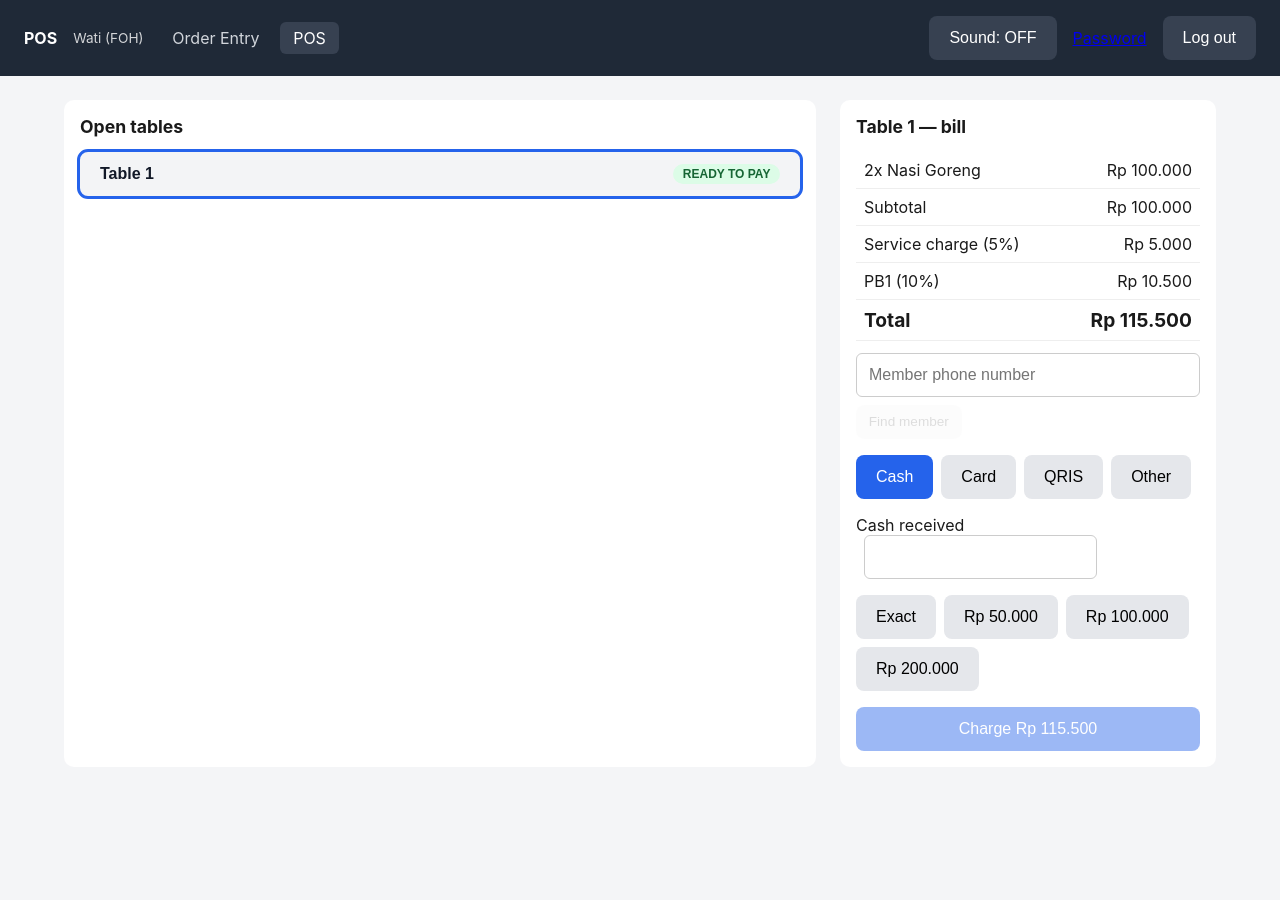
Test: POS: member discount, service charge and tax › an unknown phone shows the server's message and no discount
The width and height of the screenshot is (1280, 900).
Expected: the text "Service charge (5%)" is shown, [856,225,1060,262]
Type "0899999999" into the field labelled "Member phone number". click: (1028, 375)
box: [856,353,1200,397]
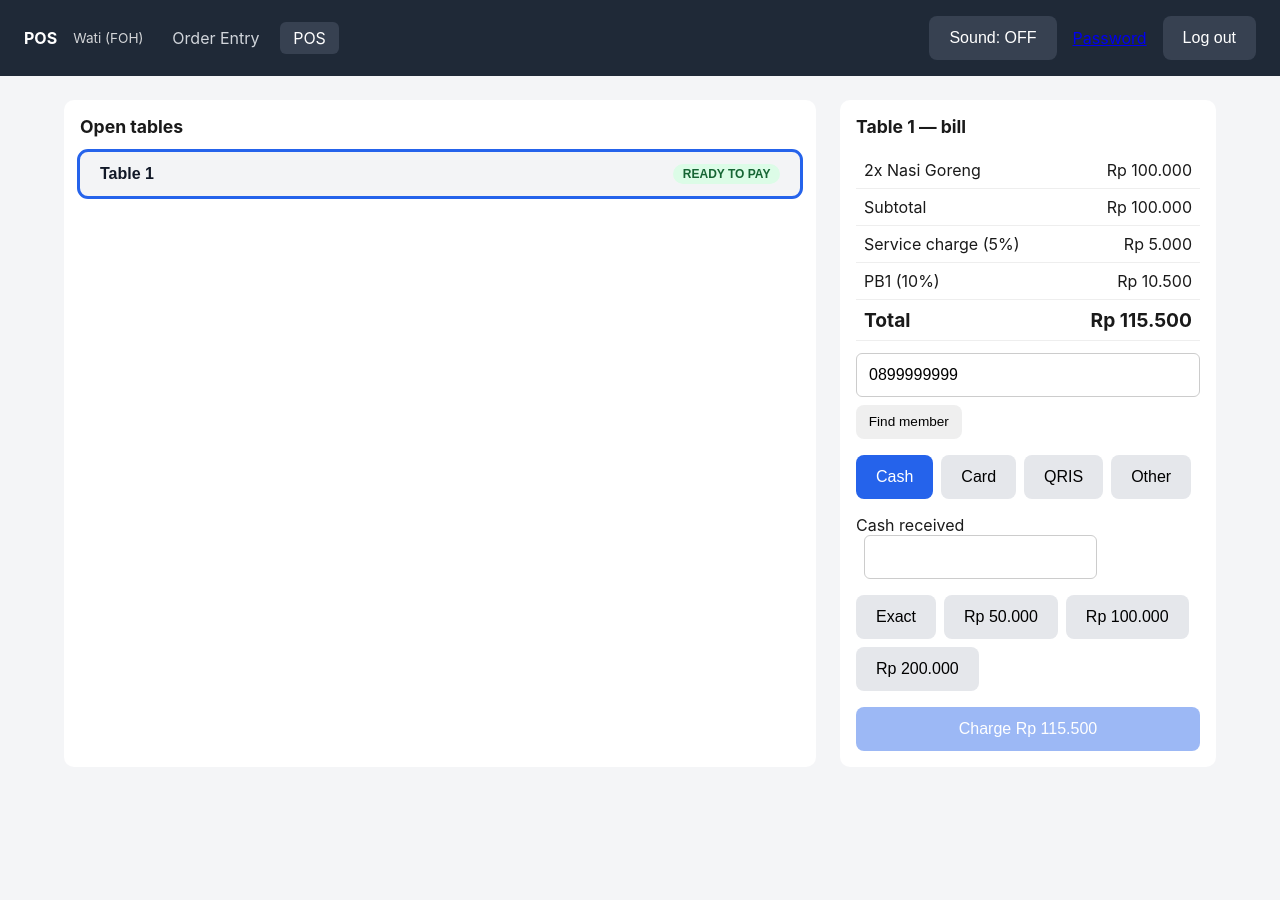
Click the button "Find member". click: (909, 422)
box: [856,405,962,439]
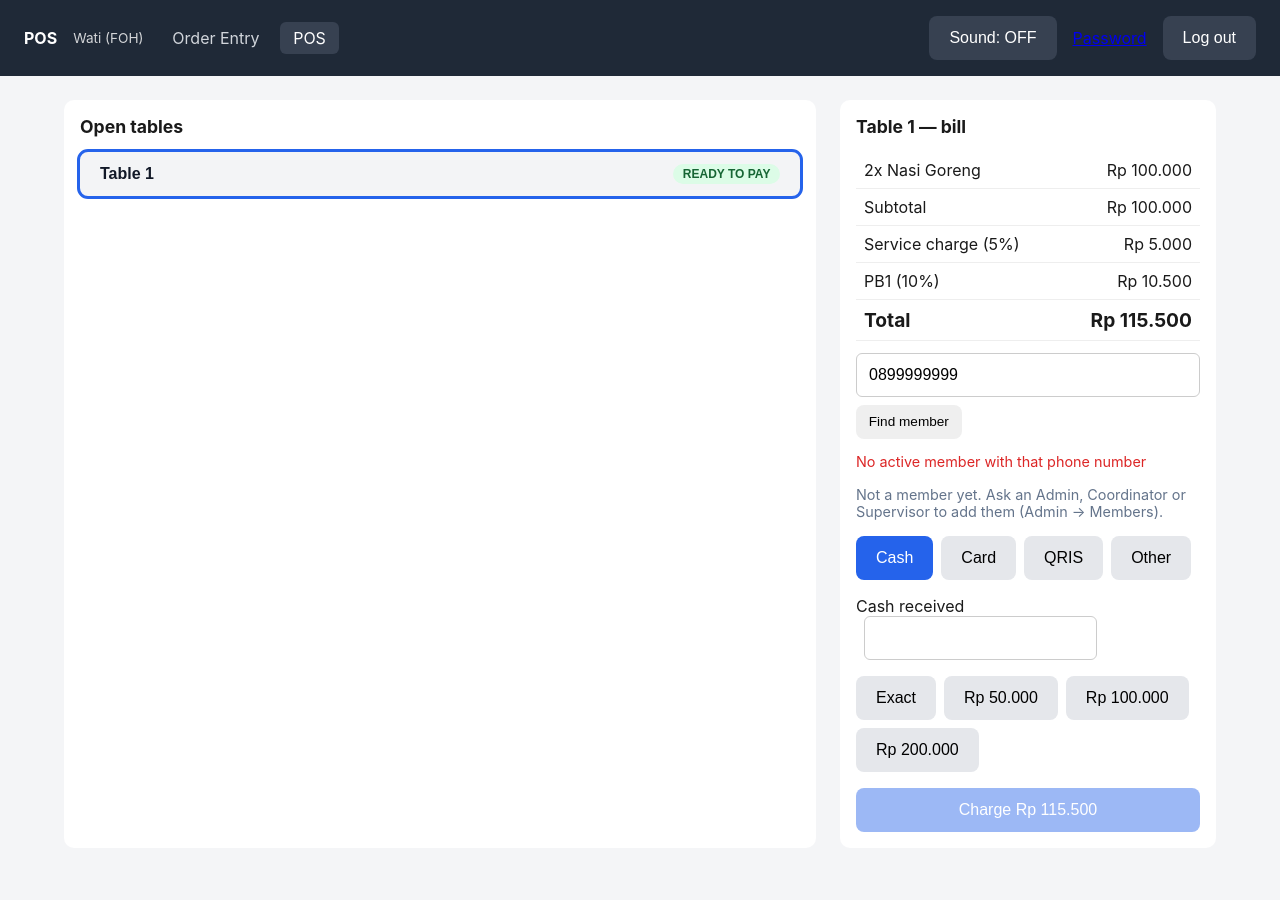
Now the text "No active member with that phone number" is shown, box [856,453,1146,470]
